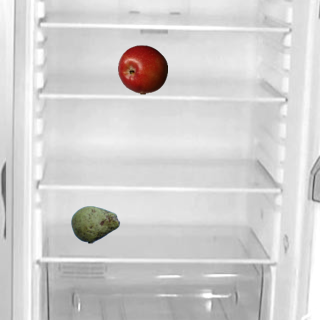Apple Braeburn: (117, 44, 167, 94)
Pear Stone: (70, 199, 120, 249)
